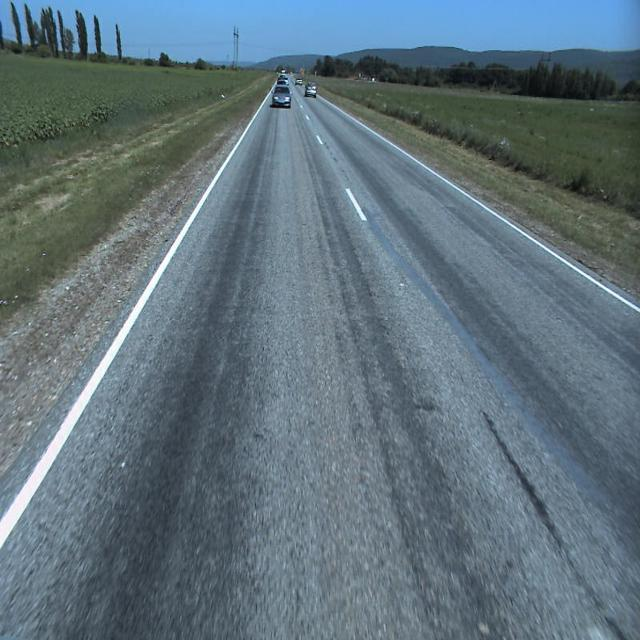road: (0, 78, 640, 639)
